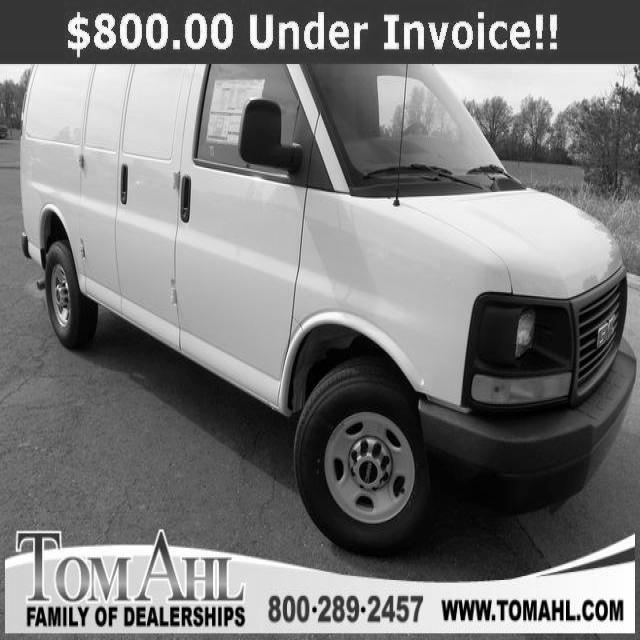car: (19, 55, 633, 556)
